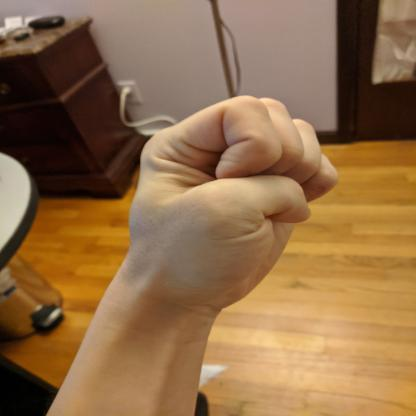E: (122, 92, 343, 315)
